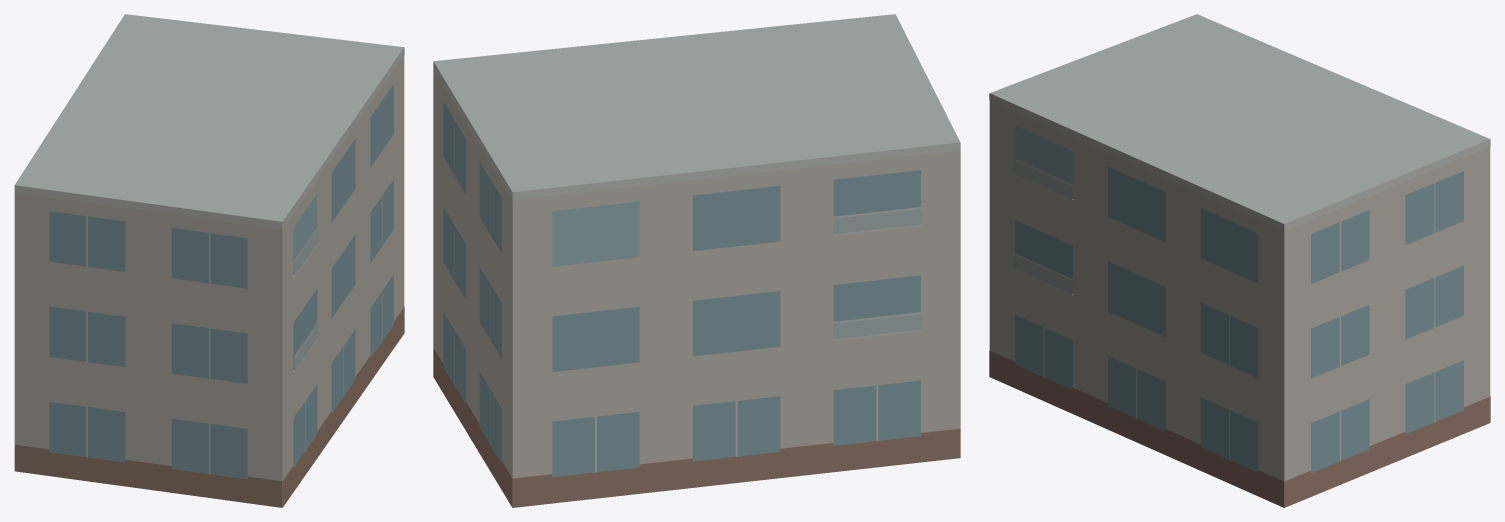
Rendered from survey-upis-32519270.glb.
The picture shows the model from 3 angles, left to right: view 1: azimuth 30°, elevation 25°; view 2: azimuth 150°, elevation 25°; view 3: azimuth 270°, elevation 25°; orthographic projection. The views are drawn at different scales.
Visible parts, largest first — view 1: survey-upis-32519270.tmp; view 2: survey-upis-32519270.tmp; view 3: survey-upis-32519270.tmp.
Boxes of the visible parts, x1,y1,x2,y2 form: survey-upis-32519270.tmp: (14,14,404,507); survey-upis-32519270.tmp: (433,14,960,507); survey-upis-32519270.tmp: (989,14,1490,507).
Bounding box in the file's own units: 14.53 × 9.15 × 14.64.
